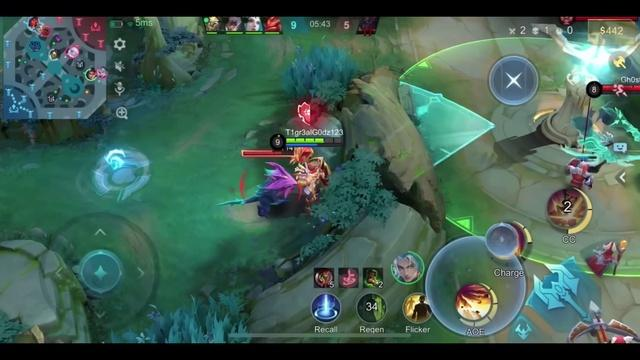Adc_Aliado: (27, 16, 39, 28)
Arbusto: (120, 293, 248, 343), (285, 45, 359, 106)
Esbirro_Aliado: (568, 303, 639, 343), (581, 240, 626, 275), (565, 158, 591, 188)
Esbirro_Jungla: (243, 162, 297, 216)
Exp_Aliado: (86, 68, 96, 81)
Exp_Enemigo: (97, 67, 107, 79)
HP_Enemigo: (601, 85, 640, 90)
HP_Heroe_Principal: (285, 138, 342, 144)
Hechizo_Batalla: (403, 293, 431, 323)
Jungla_Aliado: (28, 21, 38, 32)
Jungla_Enemigo: (40, 25, 50, 37)
Mana: (286, 145, 341, 147)
Mid_Aliado: (35, 22, 43, 35)
Minimapa: (3, 16, 108, 121)
Roamer_Aliado: (49, 48, 60, 61)
Roamer_Enemigo: (69, 47, 81, 59)
Skill1: (455, 284, 492, 320)
Skill2: (485, 221, 531, 259)
Suyou: (562, 105, 639, 165)
Tigreal: (290, 148, 329, 204)
Torre_Enemiga: (536, 25, 639, 146)
